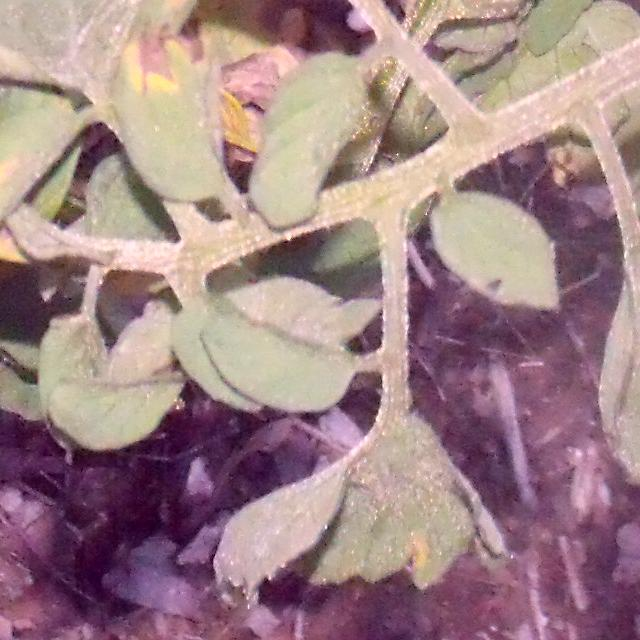Tomato leaf bacterial spot: (0, 0, 229, 123), (200, 0, 412, 51)
